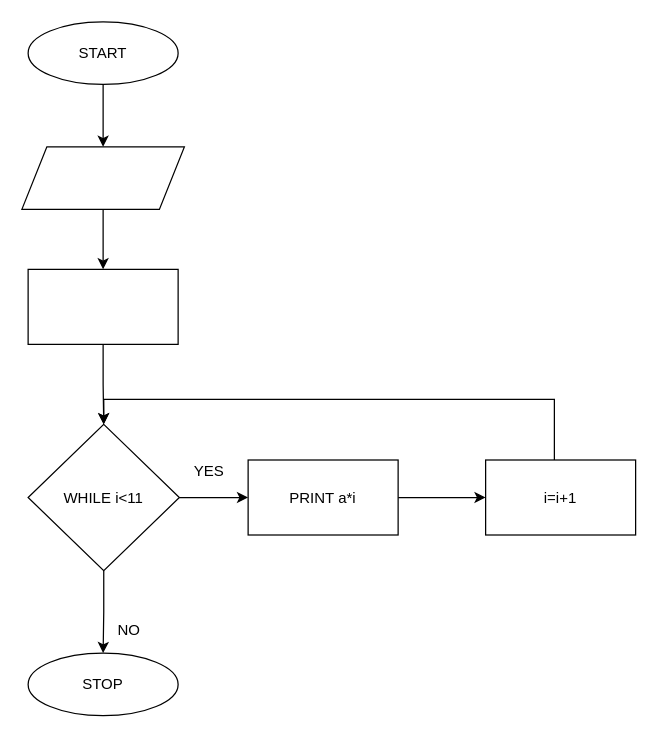
The diagram is 658 pixels wide and 748 high, and some of its shapes have lost their labels. The shapes that lost their labels are listed below. From the top down, each one's centre as x and y in pixels, then its label:
At pixel 102 177: "INPUT a".
At pixel 102 306: "INT i = 1".
